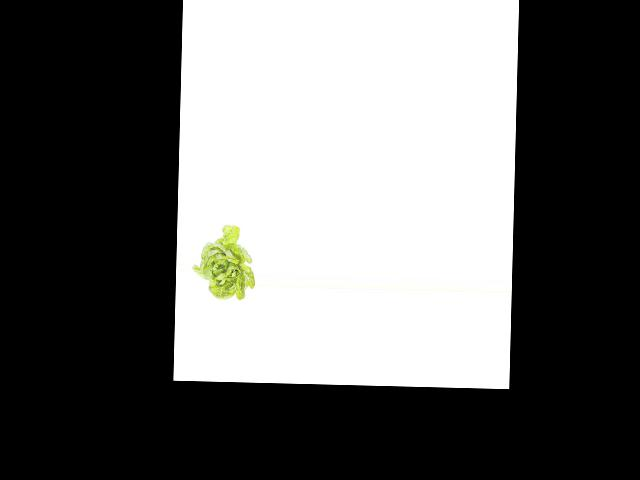lettuce: (191, 221, 254, 301)
